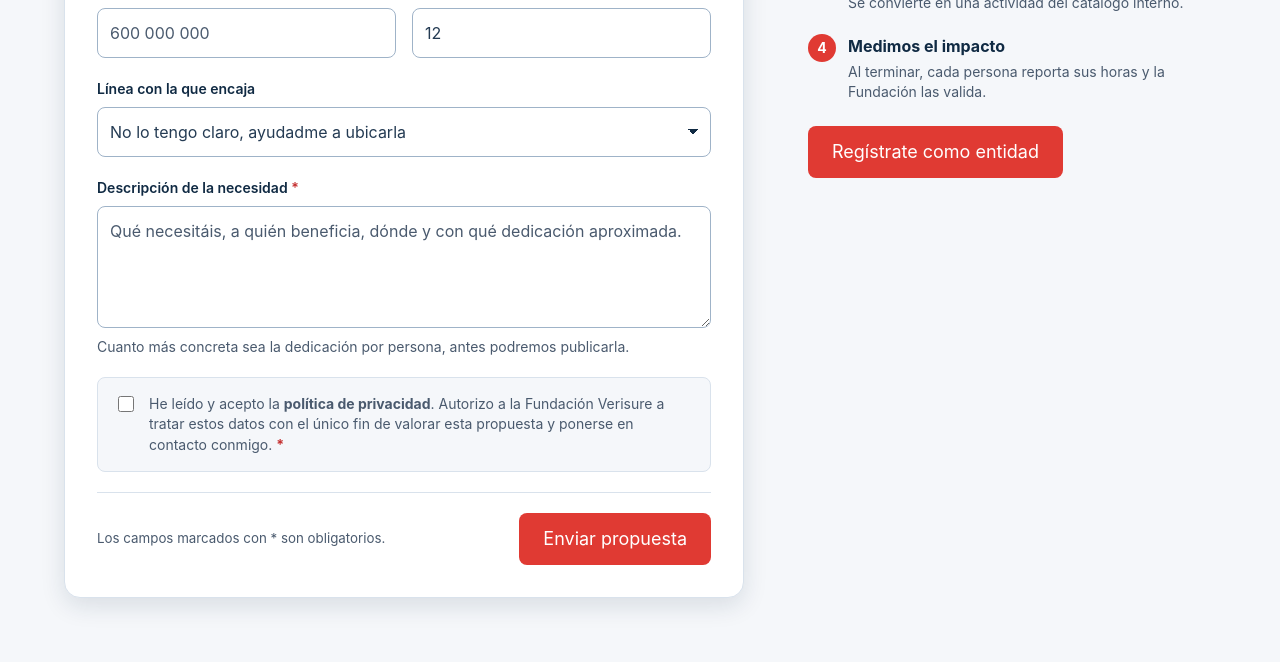
Test: ProposalForm › exige el consentimiento y lo muestra desmarcado al inicio
(page scrolled)
Check: the checkbox labelled "He leído y acepto" is not checked, box [118,396,134,412]
Click the button "Enviar propuesta". click: coordinates (615, 539)
box: [519,513,711,565]
(page scrolled)
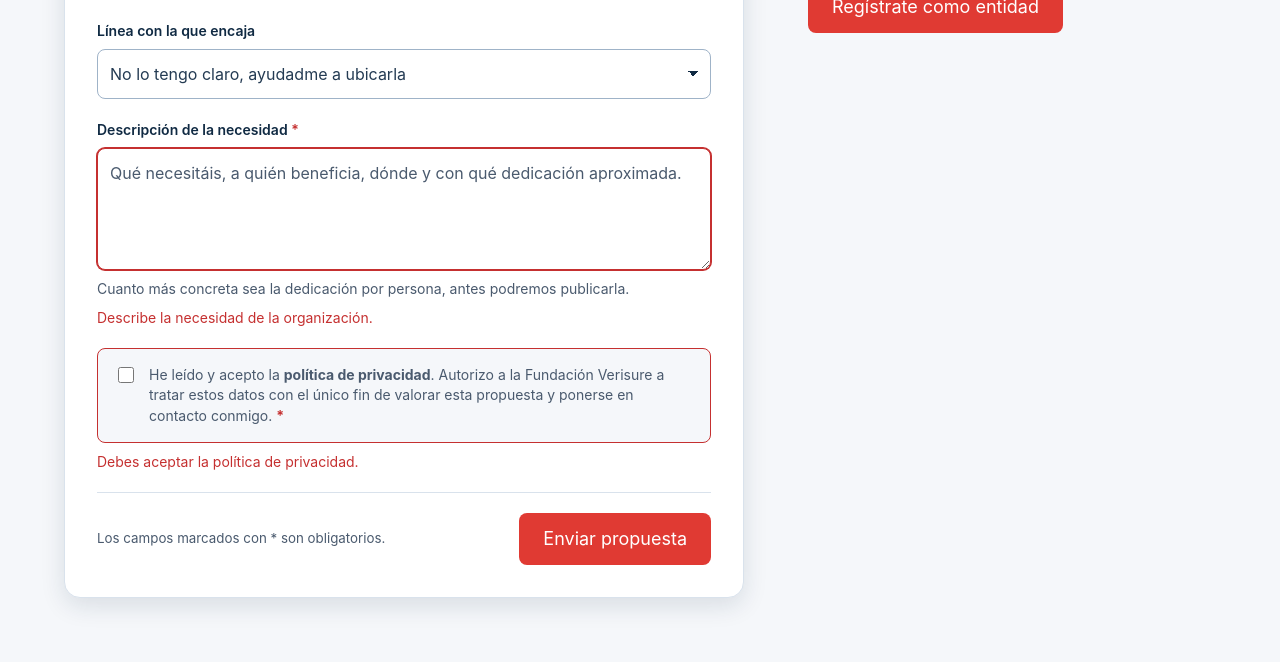
Check: the text "Debes aceptar la política de privacidad." is shown, box [97,453,359,470]
Click the checkbox labelled "He leído y acepto". click: coordinates (126, 376)
box: [118,368,134,384]
(page scrolled)
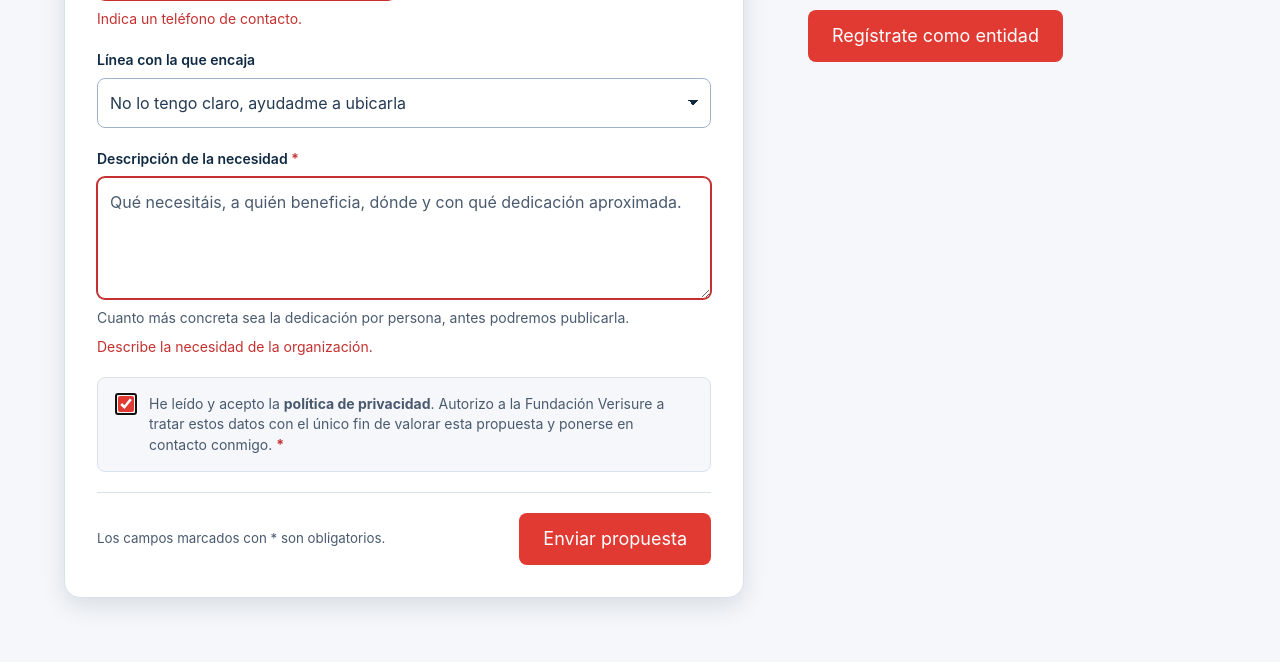
Check: the text "Debes aceptar la política de privacidad." is gone
